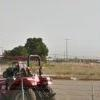Tractor: (4, 53, 59, 100)
